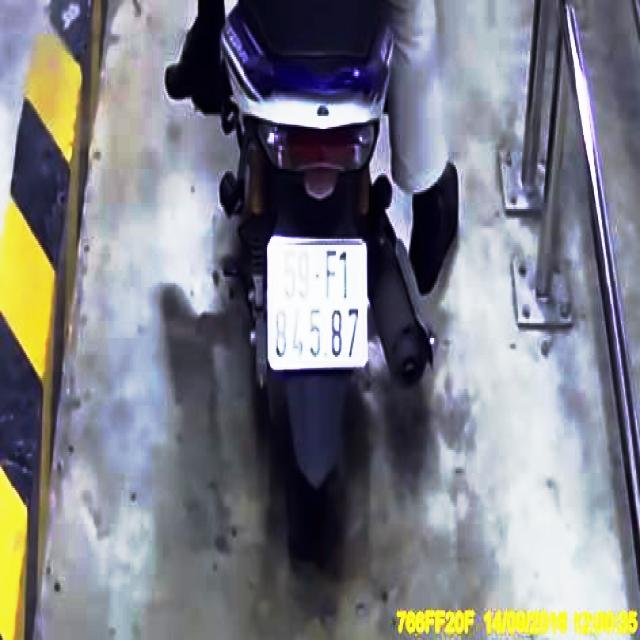license_plate: (268, 237, 368, 368)
